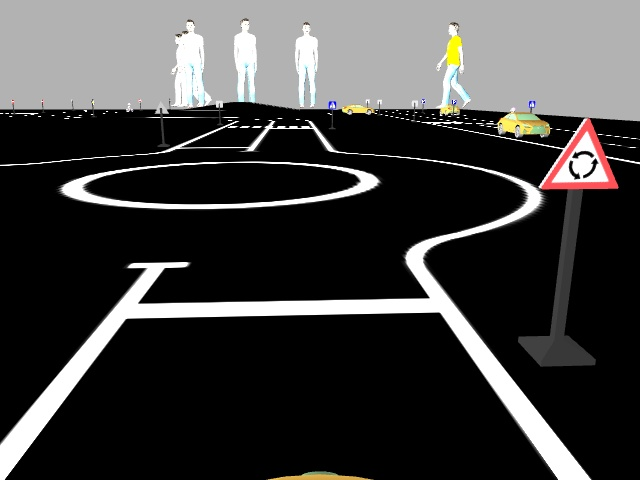Roundabout: (538, 117, 618, 192)
